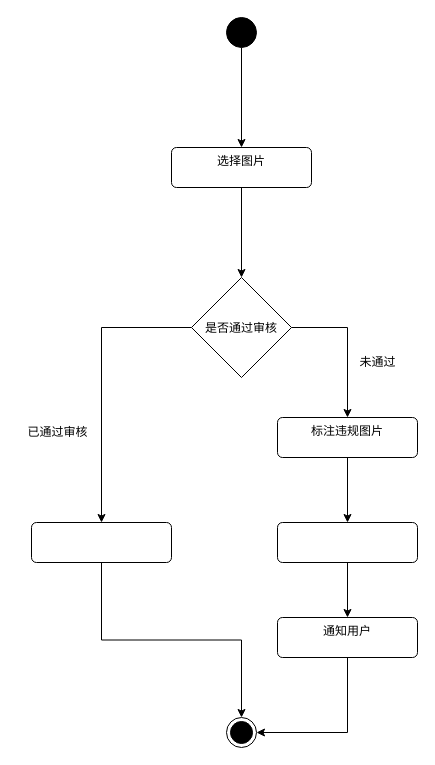
Image size: 435x765. Some labels were removed from this diagram. The centre of each missing label's shape, as x and y in pixels:
"允许图片发布" goes at [101,542].
"删除图片" goes at [347,542].
